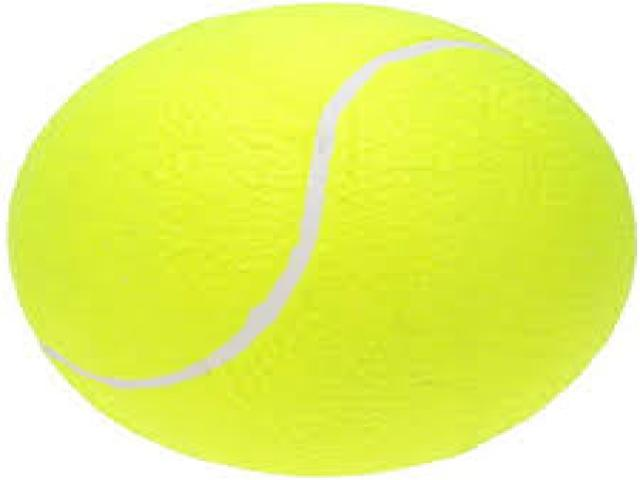tennis-ball: (0, 0, 631, 475)
